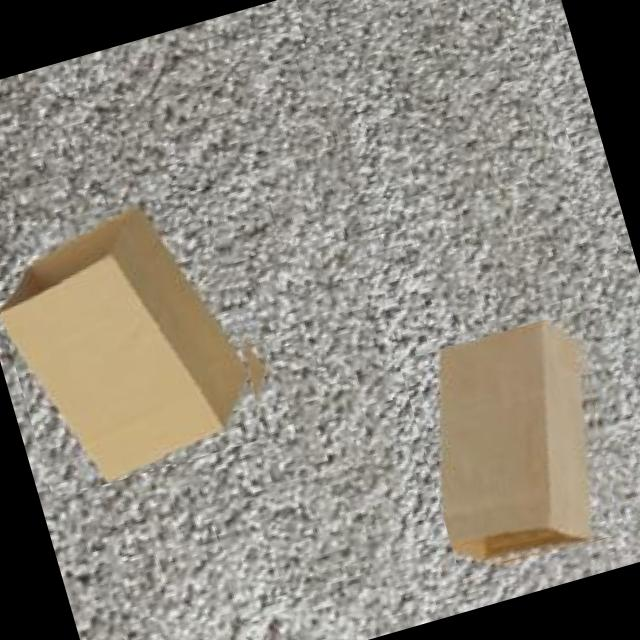PaperCardboard: (0, 211, 249, 483), (434, 321, 588, 563)
